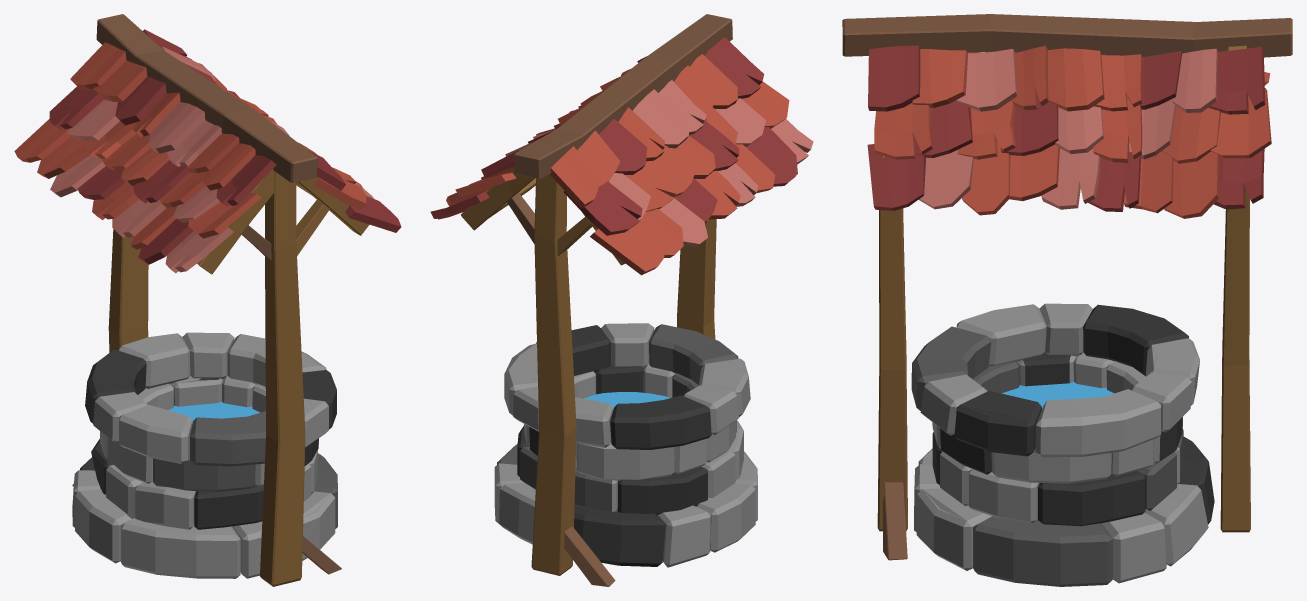
The model's file is BlenderWell.fbx.
3 renders of one model, left to right at view 1: azimuth 30°, elevation 25°; view 2: azimuth 150°, elevation 25°; view 3: azimuth 270°, elevation 25°, orthographic. The views are drawn at different scales.
Parts seen in each view (by area): view 1: Brown red, Grey, Cube.004, Cube, Cube.018, Cube.002, Cube.001, Cube.010, Plane.015, Cube.016, Water, Cube.006 (+2 smaller); view 2: Brown red, Grey, Cube.010, Cube, Cube.018, Cube.002, Cube.001, Cube.004, Plane.015, Cube.017, Cube.011, Water (+2 smaller); view 3: Plane.015, Grey, Cube, Cube.018, Cube.002, Cube.001, Cube.010, Cube.004, Cube.005, Water.
Boxes of the visible parts, x1,y1,x2,y2 form: Brown red: (14, 42, 276, 273); Grey: (85, 332, 336, 466); Cube.004: (260, 171, 305, 586); Cube: (72, 453, 337, 578); Cube.018: (96, 14, 317, 182); Cube.002: (100, 374, 318, 491); Cube.001: (91, 439, 317, 529); Cube.010: (108, 229, 148, 352); Plane.015: (143, 29, 401, 232); Cube.016: (197, 169, 274, 274); Water: (168, 401, 259, 423); Cube.006: (296, 176, 369, 235); Brown red: (550, 37, 813, 275); Grey: (504, 323, 750, 449); Cube.010: (531, 174, 576, 575); Cube: (494, 444, 757, 567); Cube.018: (514, 14, 732, 179); Cube.002: (524, 363, 736, 480); Cube.001: (517, 420, 743, 514); Cube.004: (677, 219, 716, 339); Plane.015: (430, 56, 646, 219); Cube.017: (460, 168, 534, 230); Cube.011: (563, 526, 615, 586); Water: (584, 392, 669, 409); Plane.015: (867, 45, 1271, 218); Grey: (911, 303, 1199, 457); Cube: (914, 437, 1214, 586); Cube.018: (842, 14, 1292, 57); Cube.002: (932, 352, 1182, 483); Cube.001: (932, 429, 1183, 526); Cube.010: (1220, 190, 1250, 532); Cube.004: (877, 208, 907, 531); Cube.005: (883, 482, 907, 560); Water: (1001, 382, 1114, 408).
Size of the model in its own units: 1158 by 2014 by 1621.
